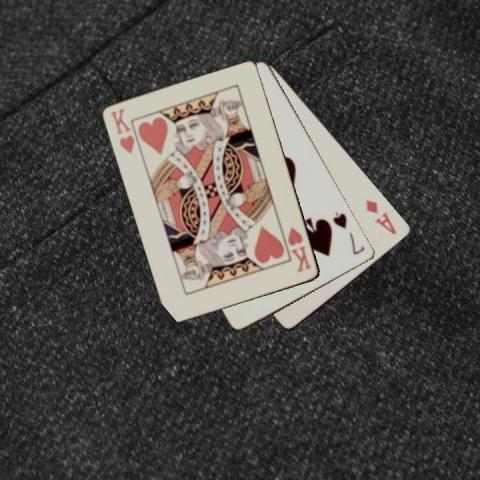7s: (330, 209, 367, 256)
Ad: (363, 197, 399, 236)
Kh: (107, 105, 137, 155), (285, 224, 313, 274)
